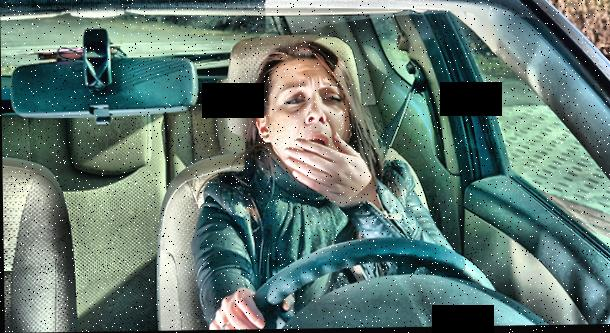seatbelt: (287, 69, 432, 329)
